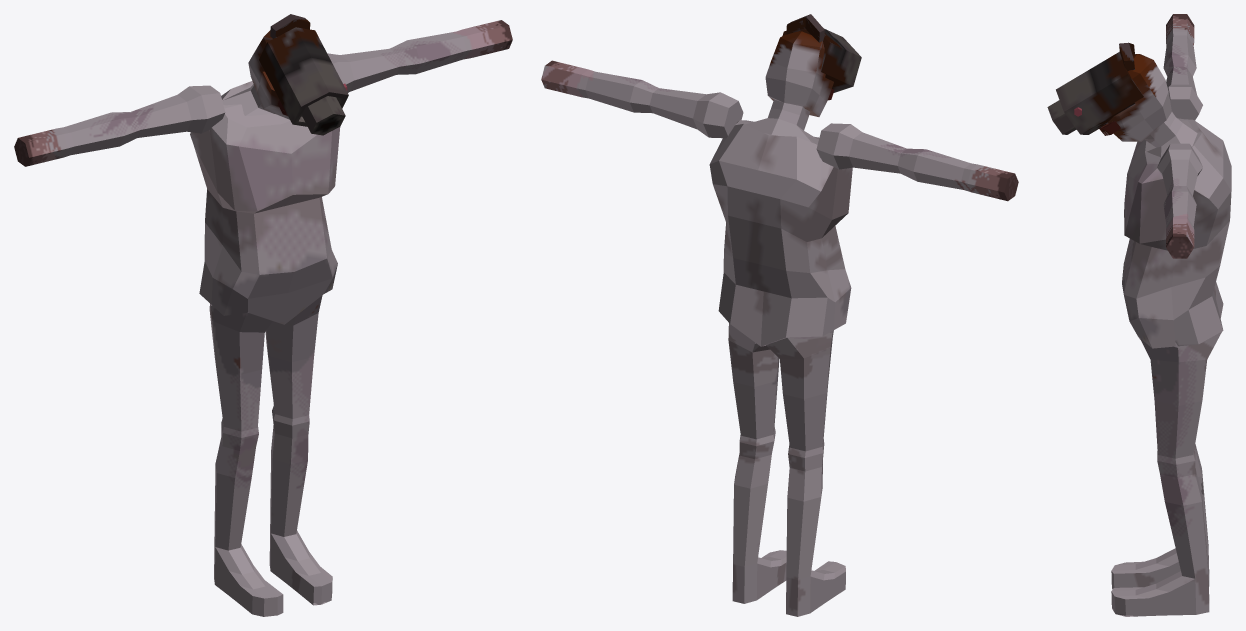
Rendered from bofy.fbx.
3 renders of one model, left to right at view 1: azimuth 30°, elevation 25°; view 2: azimuth 150°, elevation 25°; view 3: azimuth 270°, elevation 25°, orthographic. The views are drawn at different scales.
Visible parts, largest first — view 1: Cube, Cylinder, Cylinder.001, Cylinder.004, Cylinder.003, Cylinder.002; view 2: Cube, Cylinder, Cylinder.001, Cylinder.003, Cylinder.004, Cylinder.002; view 3: Cube, Cylinder, Cylinder.001, Cylinder.004, Cylinder.003, Cylinder.002, Cube.002.
Part boxes in pixels (bbox=[...]): Cube: bbox=[190, 81, 340, 324]; Cylinder: bbox=[209, 295, 332, 616]; Cylinder.001: bbox=[14, 20, 512, 166]; Cylinder.004: bbox=[259, 27, 348, 135]; Cylinder.003: bbox=[248, 30, 289, 119]; Cylinder.002: bbox=[222, 84, 285, 122]; Cube: bbox=[709, 120, 852, 346]; Cylinder: bbox=[728, 323, 845, 616]; Cylinder.001: bbox=[541, 60, 1018, 201]; Cylinder.003: bbox=[765, 31, 833, 116]; Cylinder.004: bbox=[782, 28, 861, 92]; Cylinder.002: bbox=[745, 99, 816, 143]; Cube: bbox=[1122, 118, 1231, 348]; Cylinder: bbox=[1111, 332, 1221, 616]; Cylinder.001: bbox=[1157, 14, 1202, 258]; Cylinder.004: bbox=[1047, 52, 1143, 134]; Cylinder.003: bbox=[1106, 54, 1171, 141]; Cylinder.002: bbox=[1144, 112, 1197, 157]; Cube.002: bbox=[1119, 42, 1134, 70].
Size of the model in its own units: 133 by 155 by 46.49.
